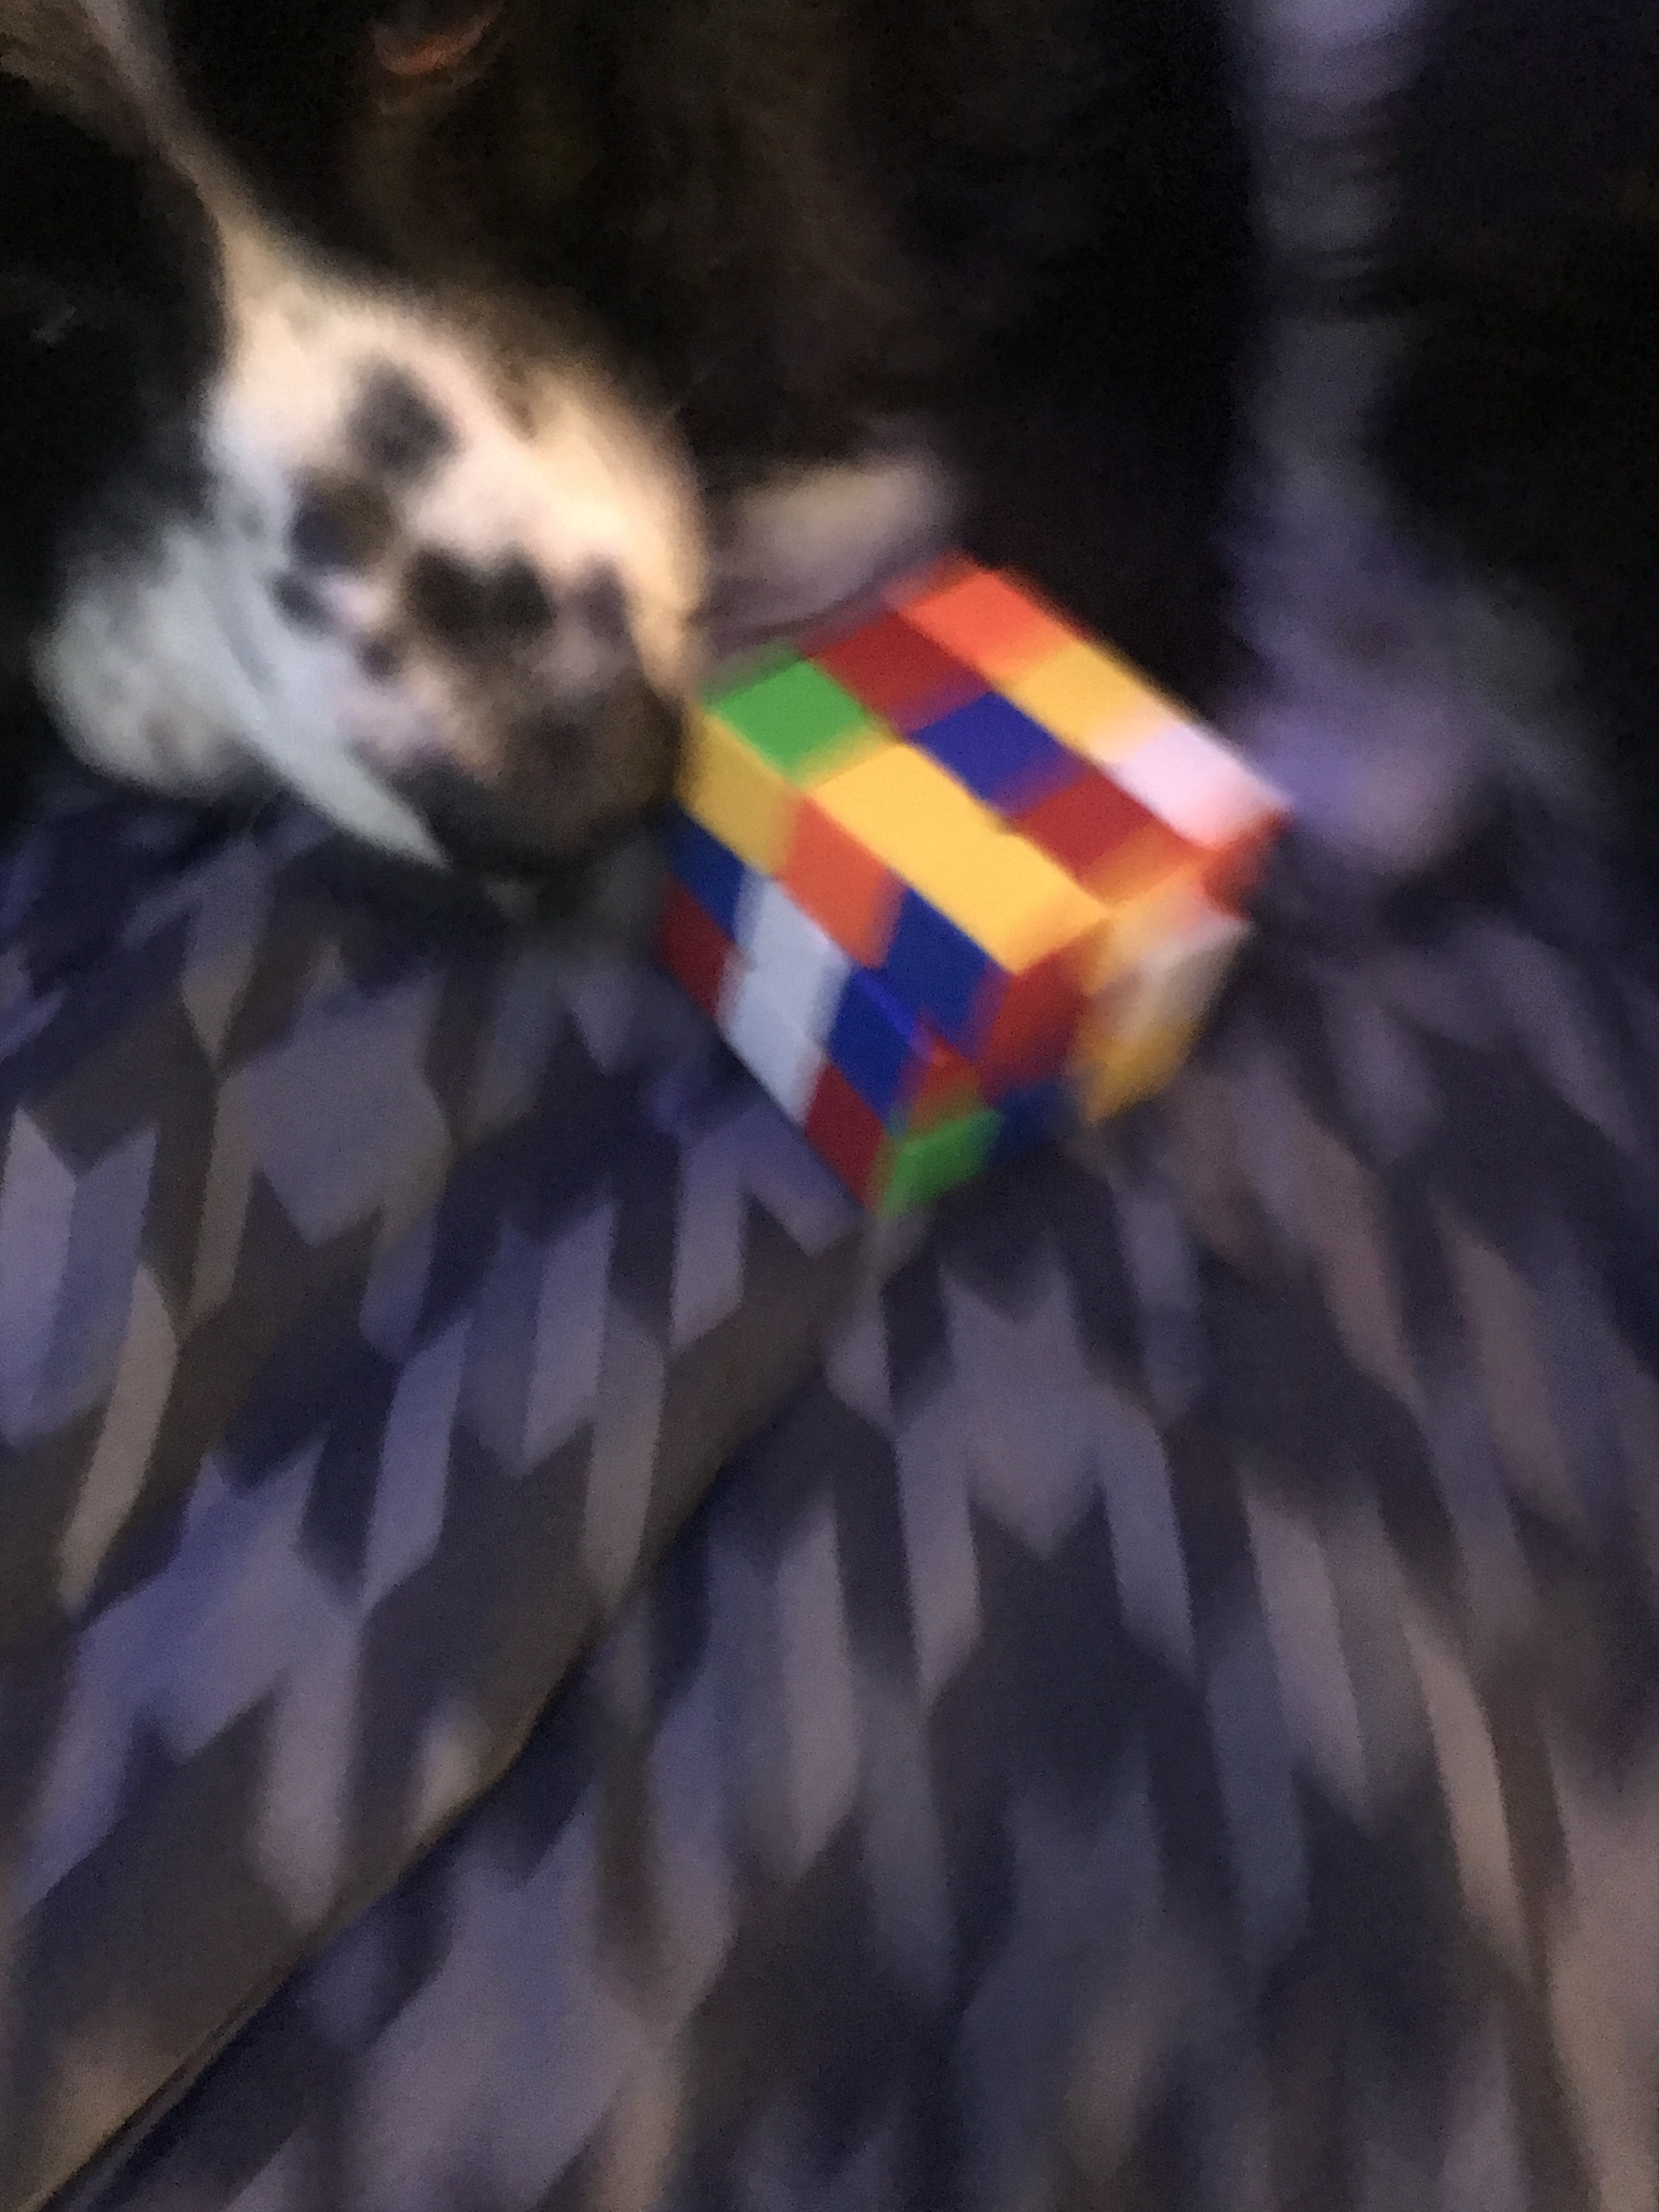rubiks: (681, 556, 1274, 1224)
